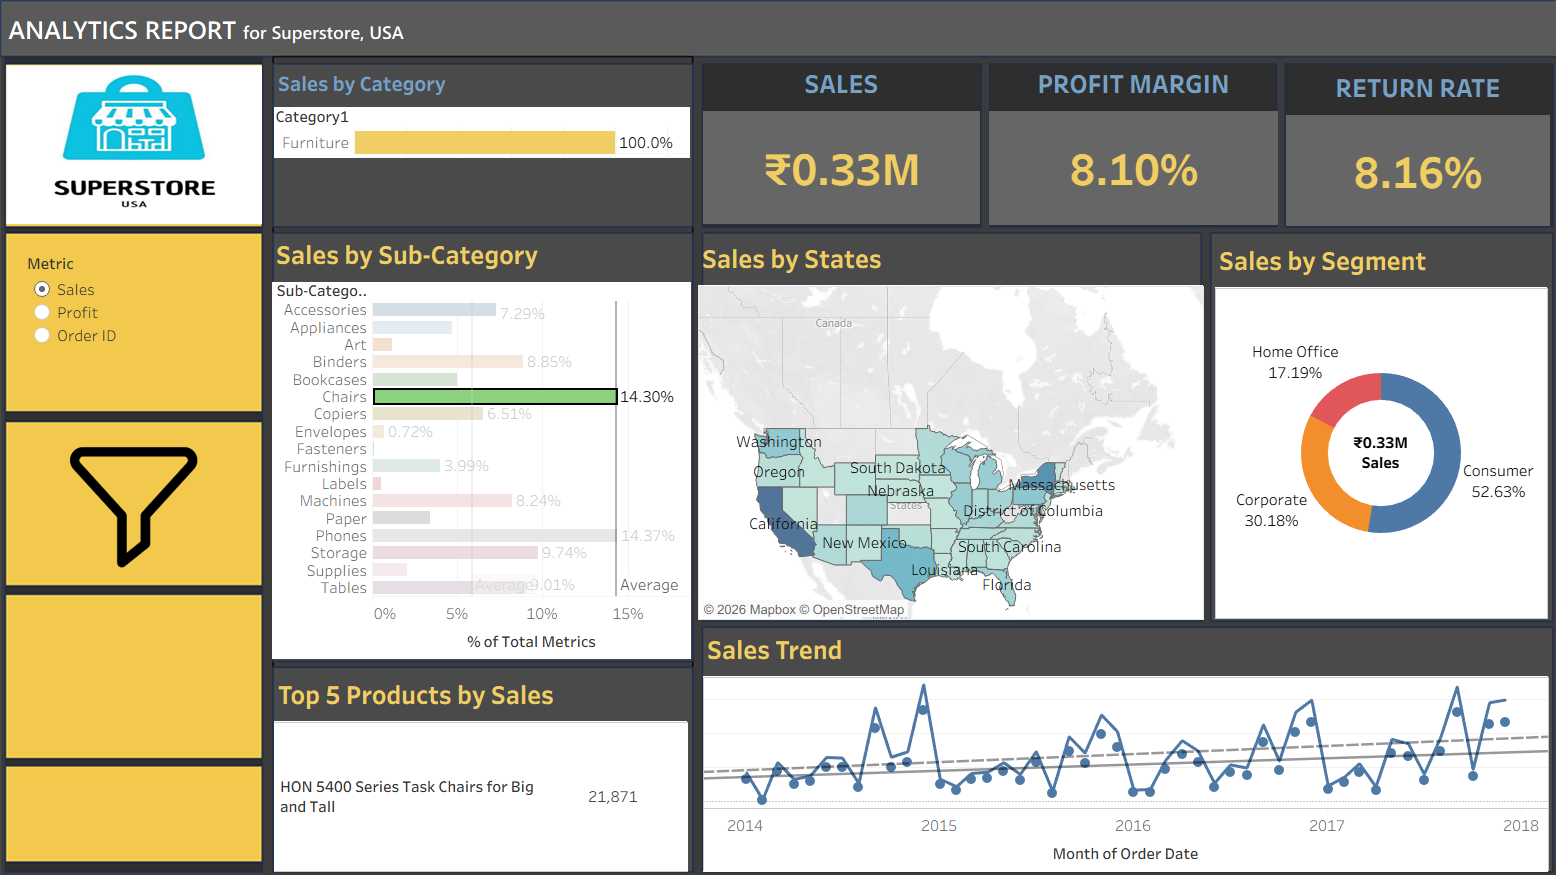

What the dashboard file says about the page in this screenshot:
{"tool":"tableau","page":{"name":"Dashboard 2","canvas":[1600,900],"ordinal":1},"visuals":[{"type":"image","param":"Image/Slide1.PNG","box":[8,8,1584,884]},{"type":"text","box":[17,16,511,51]},{"type":"worksheet","title":"Assignment 7 (4)","mark":"Automatic","box":[715,74,277,162]},{"type":"worksheet","title":"Assignment 7 (5)","mark":"Automatic","box":[1001,74,289,163]},{"type":"image","param":"Image/Logo - Copy.png","box":[18,77,256,162]},{"type":"worksheet","title":"Assignment 7 (2)","mark":"Automatic","rows":["Category"],"cols":["Calculation_1207853705064460"],"box":[286,77,416,162]},{"type":"worksheet","title":"Assignment 7 (6)","mark":"Automatic","box":[1298,78,264,160]},{"type":"worksheet","title":"Assignment 7","mark":"Automatic","rows":["Sub-Category"],"cols":["Calculation_1207853705064460"],"box":[284,245,419,426]},{"type":"worksheet","title":"Assignment 7 (8)","mark":"Multipolygon","box":[710,249,506,383]},{"type":"worksheet","title":"Assignment 7 (7)","mark":"Pie","rows":["Calculation_1894766404337675","Calculation_1894766404354061"],"box":[1227,251,333,380]},{"type":"parameter","param":"[Parameters].[Parameter 1894766419525646]","box":[39,265,226,152]},{"type":"dashboard-object","box":[20,440,250,151]},{"type":"filter","title":"Assignment 7 (9)","param":"[federated.0edlraj1anpspn1djd8ef1rr8pt8].[none:Region:nk]","box":[16,607,259,172]},{"type":"worksheet","title":"Assignment 7 (9)","mark":"Line","rows":["Calculation_1207853705064460","Calculation_1207853705064460"],"cols":["Order Date"],"box":[715,640,846,244]},{"type":"worksheet","title":"Assignment 7 (3)","mark":"Automatic","rows":["Product Name"],"box":[286,685,419,199]},{"type":"filter","title":"Assignment 7 (9)","param":"[federated.0edlraj1anpspn1djd8ef1rr8pt8].[yr:Order Date:ok]","box":[16,779,259,89]}]}

Visuals, with their boxes in screenshot pixels (x1, y1, x2, y2), scaled from the page's 1600x900 canvas onto the 1556x875 screenshot:
image: crop(8, 8, 1548, 867)
text: crop(17, 16, 513, 65)
"Assignment 7 (4)" worksheet: crop(695, 72, 965, 229)
"Assignment 7 (5)" worksheet: crop(973, 72, 1255, 230)
image: crop(18, 75, 266, 232)
"Assignment 7 (2)" worksheet: crop(278, 75, 683, 232)
"Assignment 7 (6)" worksheet: crop(1262, 76, 1519, 231)
"Assignment 7" worksheet: crop(276, 238, 684, 652)
"Assignment 7 (8)" worksheet (Multipolygon marks): crop(690, 242, 1183, 614)
"Assignment 7 (7)" worksheet (Pie marks): crop(1193, 244, 1517, 613)
parameter: crop(38, 258, 258, 405)
dashboard-object: crop(19, 428, 263, 575)
"Assignment 7 (9)" filter: crop(16, 590, 267, 757)
"Assignment 7 (9)" worksheet (Line marks): crop(695, 622, 1518, 859)
"Assignment 7 (3)" worksheet: crop(278, 666, 686, 859)
"Assignment 7 (9)" filter: crop(16, 757, 267, 844)
